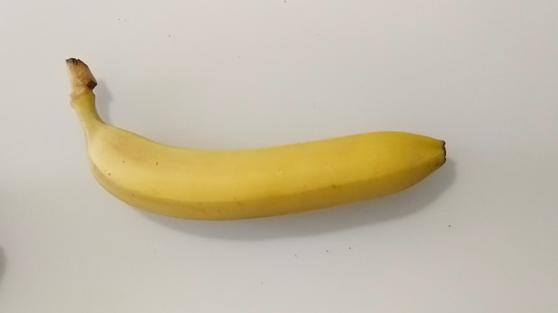banana: (63, 49, 450, 217)
